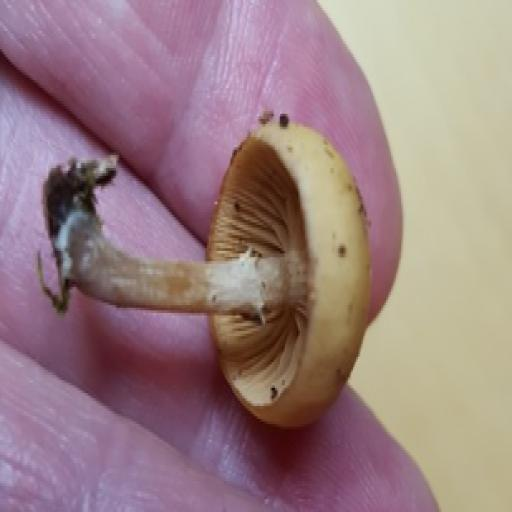Funeral Bell: (37, 107, 376, 441)
